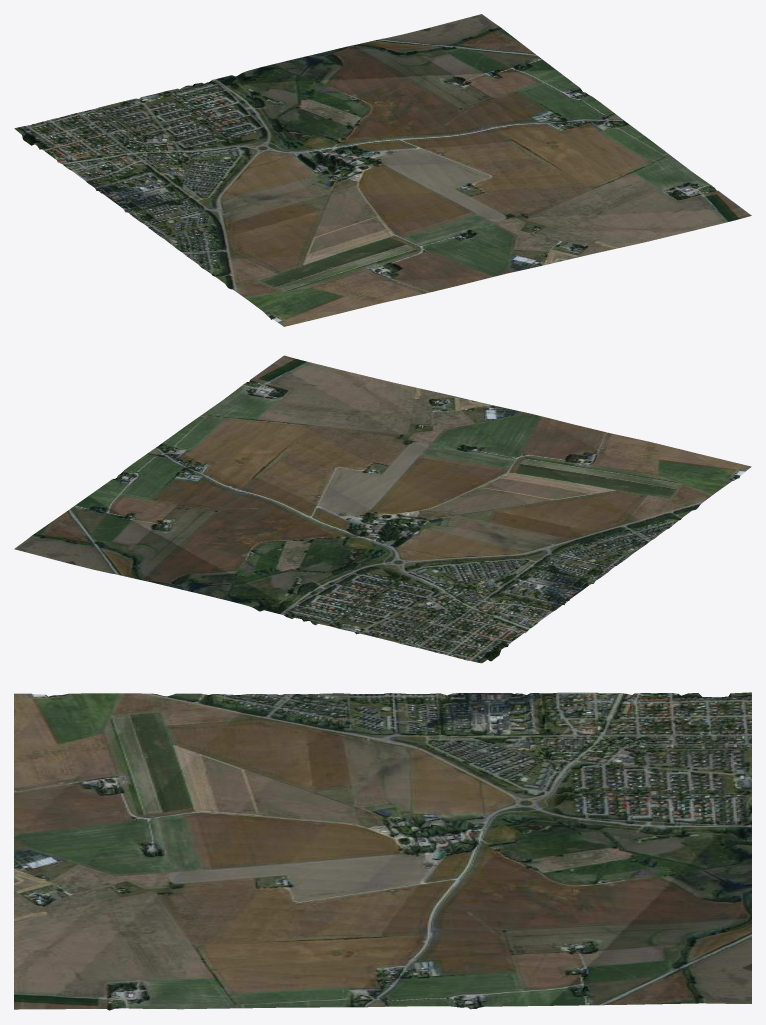
The model's file is map_10_253_431.dae.
The picture shows the model from 3 angles, top to bottom: view 1: azimuth 30°, elevation 25°; view 2: azimuth 150°, elevation 25°; view 3: azimuth 270°, elevation 25°; orthographic projection. The views are drawn at different scales.
Visible parts, largest first — view 1: Ter0; view 2: Ter0; view 3: Ter0.
Boxes of the visible parts, x1=… form: Ter0: x1=14, y1=14, x2=751, y2=326; Ter0: x1=14, y1=355, x2=751, y2=663; Ter0: x1=14, y1=692, x2=751, y2=1010.
Size of the model in its own units: 2044 by 2044 by 29.31.
3 materials, 3 textured.
